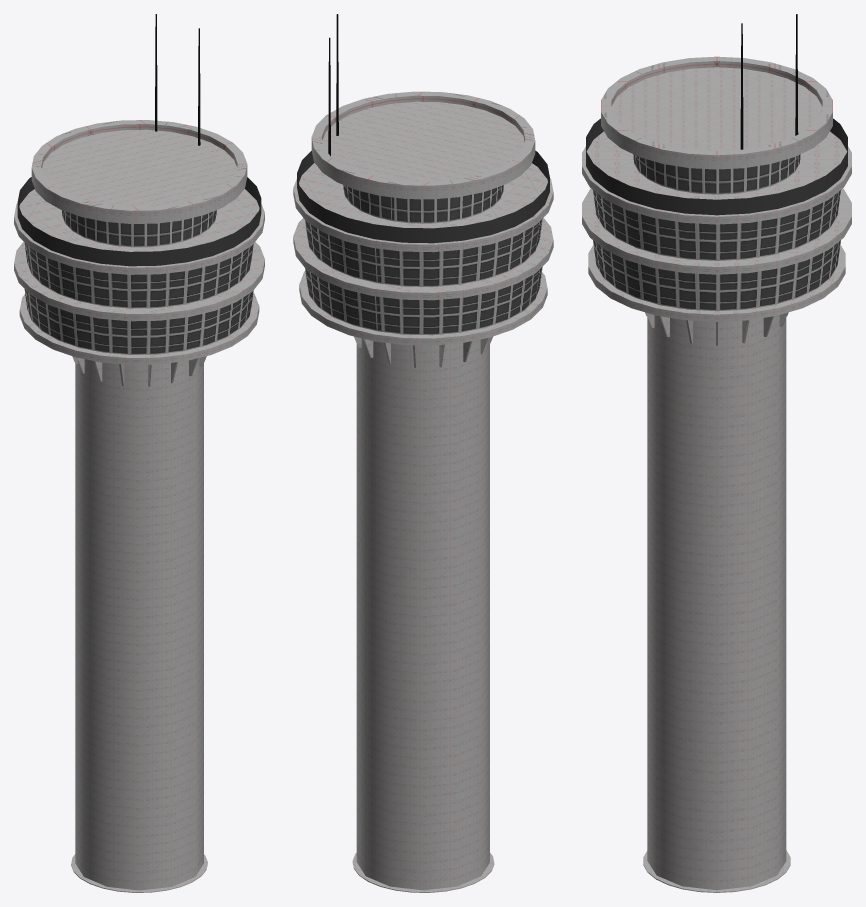
File: control_tower_01_a.FBX
The picture shows the model from 3 angles, left to right: view 1: azimuth 30°, elevation 25°; view 2: azimuth 150°, elevation 25°; view 3: azimuth 270°, elevation 25°; orthographic projection. The views are drawn at different scales.
Parts seen in each view (by area): view 1: control_tower_01_a; view 2: control_tower_01_a; view 3: control_tower_01_a.
Part boxes in pixels (<box>): control_tower_01_a: <box>14,14,264,892</box>; control_tower_01_a: <box>293,14,553,892</box>; control_tower_01_a: <box>582,14,851,892</box>.
Size of the model in its own units: 34.1 by 121 by 33.85.
